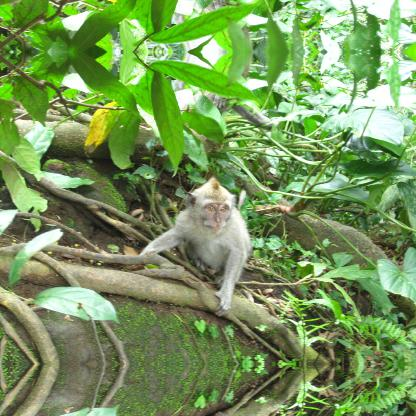Monkey: (132, 183, 248, 309)
